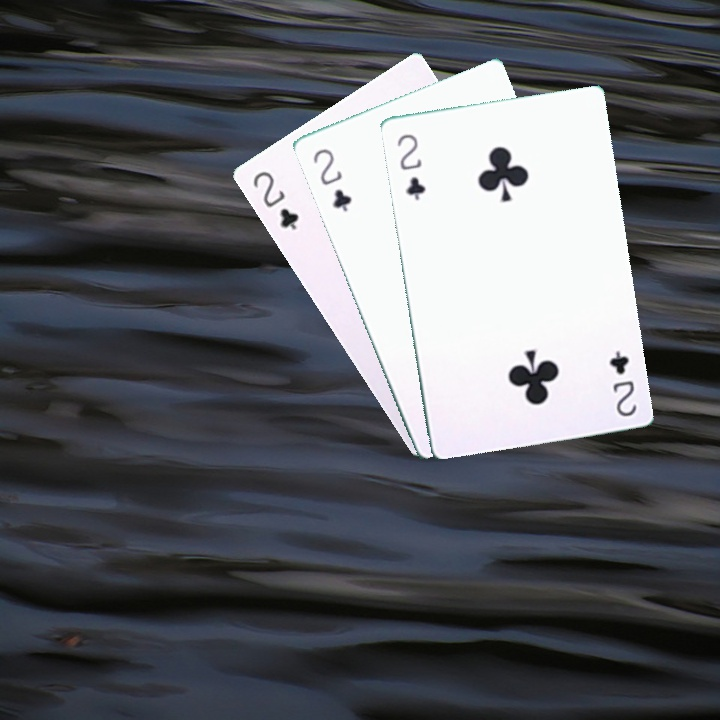2c: (248, 167, 302, 233), (309, 144, 355, 214), (393, 130, 428, 203), (605, 346, 640, 419)
